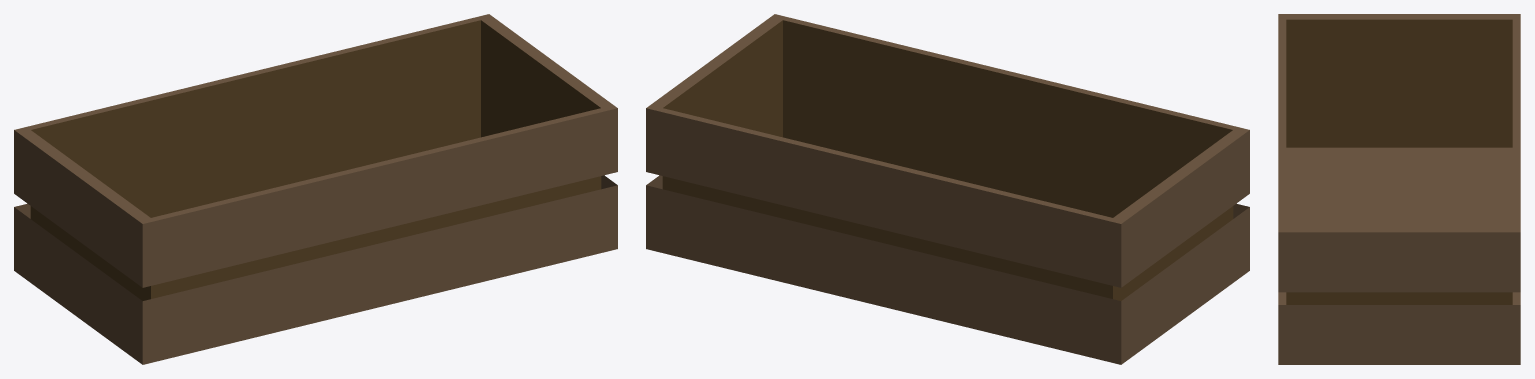
File: fruitbasket.fbx
3 views of the same model, side by side, from view 1: azimuth 30°, elevation 25°; view 2: azimuth 150°, elevation 25°; view 3: azimuth 270°, elevation 25° (orthographic). The views are drawn at different scales.
Visible parts, largest first — view 1: basket; view 2: basket; view 3: basket.
Part boxes in pixels (x1,y1,x2,y2): basket: (14, 14, 617, 364); basket: (646, 14, 1249, 364); basket: (1278, 14, 1520, 364).
Bounding box in the file's own units: 246 × 69.68 × 115.
